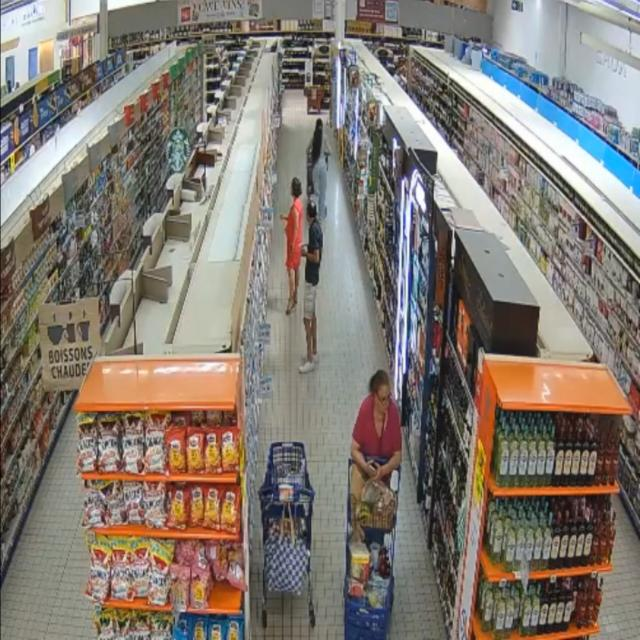bags: (265, 509, 309, 595)
hands: (375, 465, 389, 481), (367, 462, 380, 479), (301, 245, 308, 256), (298, 240, 305, 249), (288, 244, 294, 254), (280, 215, 288, 221)
person: (351, 371, 402, 498), (300, 201, 323, 374), (281, 178, 302, 314), (308, 118, 330, 219)
